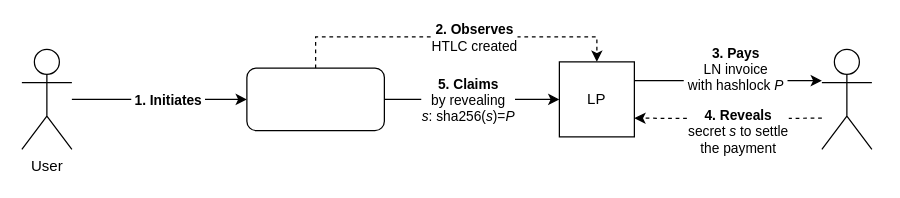
Some shapes in this 900 by 198 pixel diagram are drawn without their labels. Here are the shapes that lost their labels. From the top down, the centre of each, then its label:
At [315,99]: "HTLC Hashlock P Timeout T".
At [846,98]: "Recipient".
